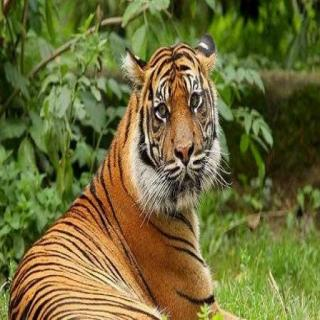Tiger: (14, 33, 241, 320)
